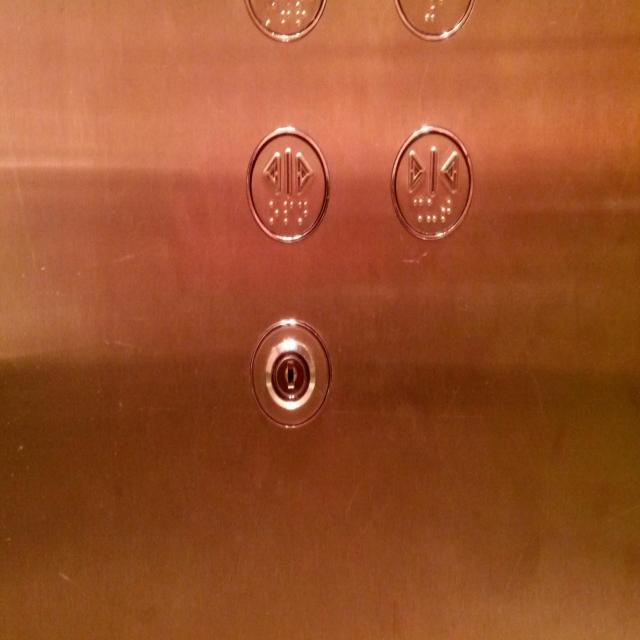bt_keyhole: (249, 314, 333, 434)
close: (389, 122, 475, 241)
open: (244, 122, 331, 247)
